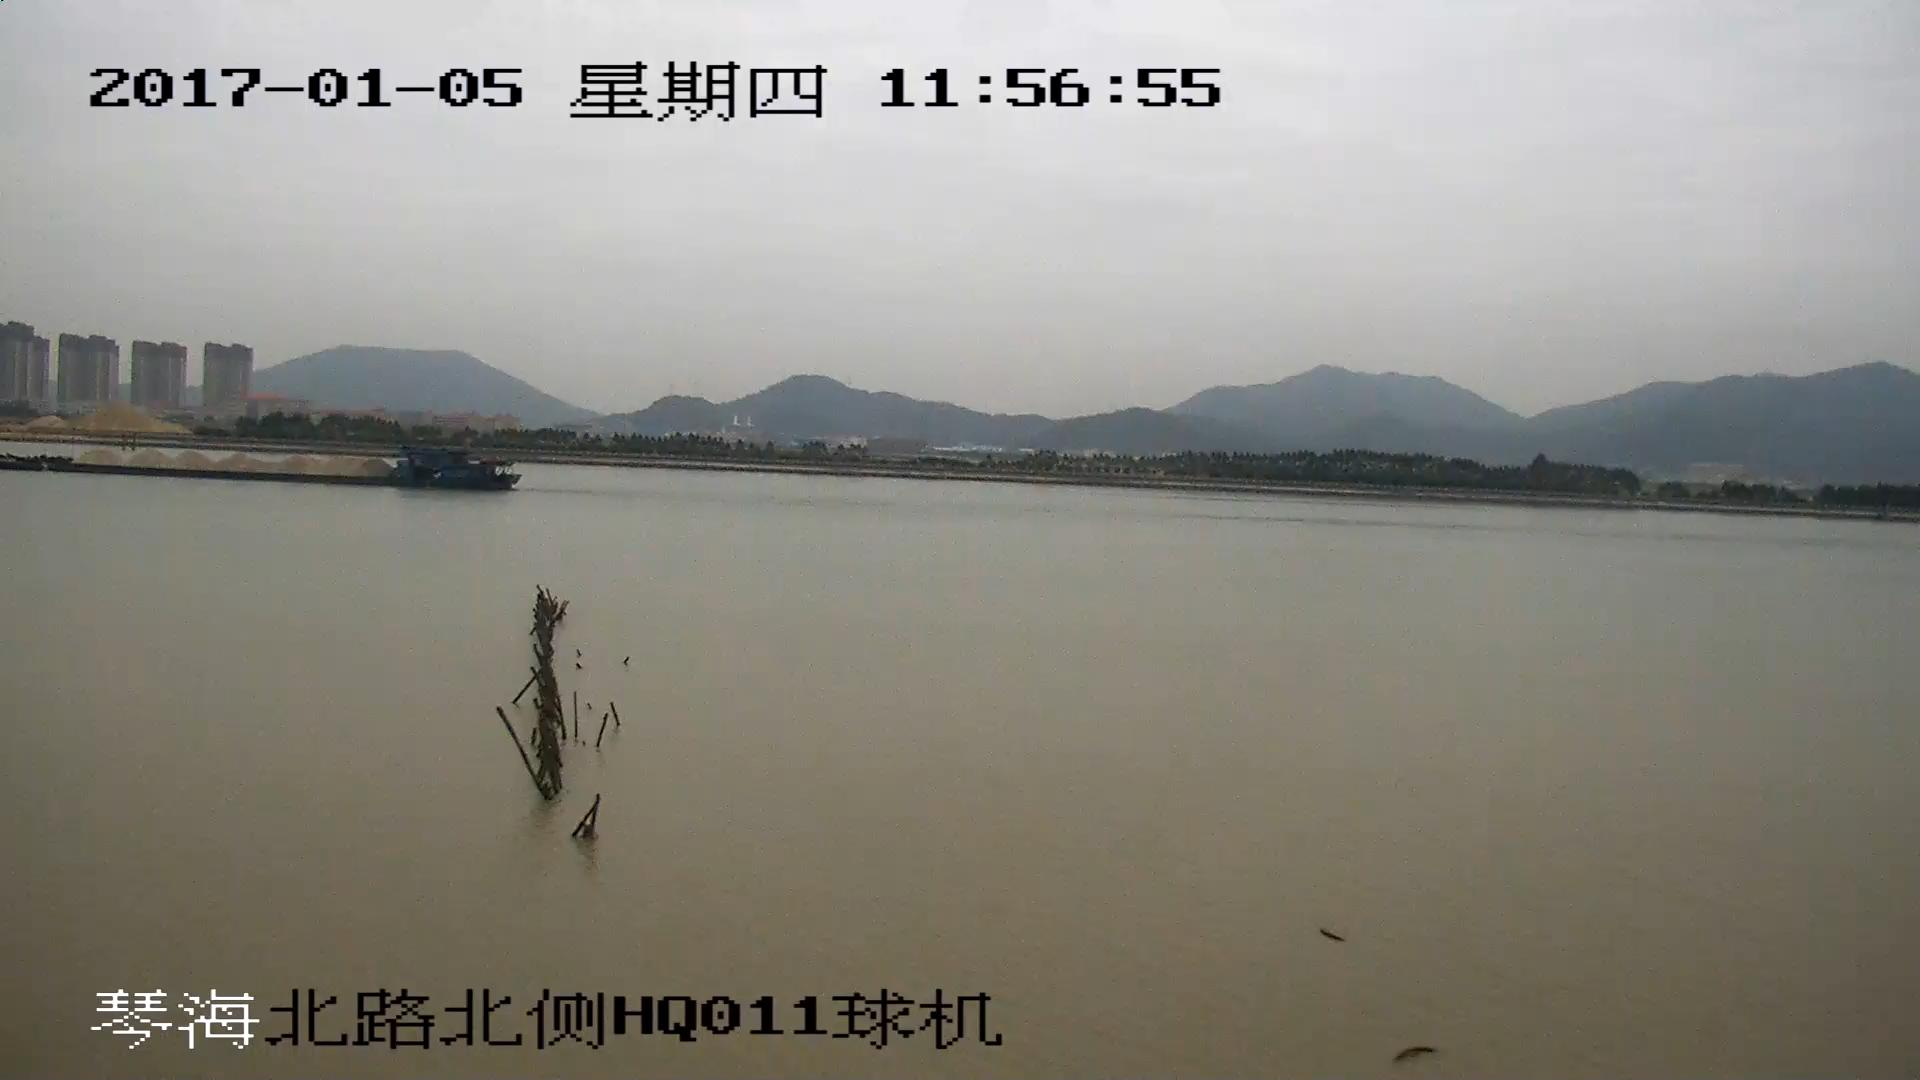ore carrier: (1, 446, 516, 494)
